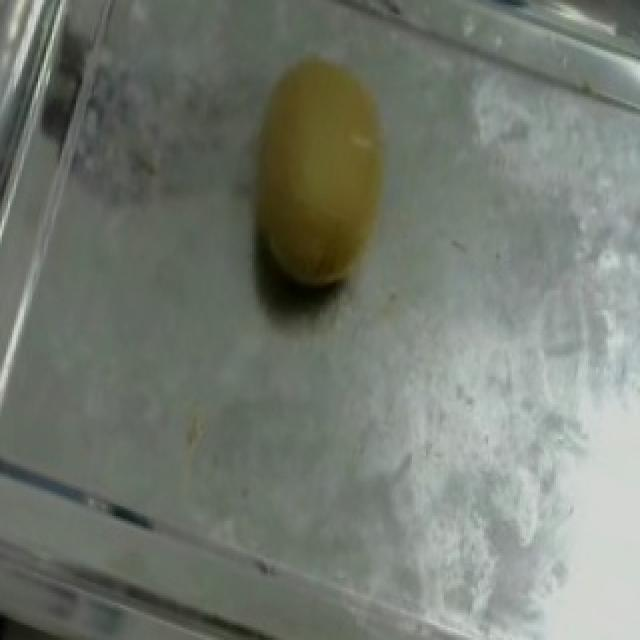Fruit: (214, 30, 434, 327)
